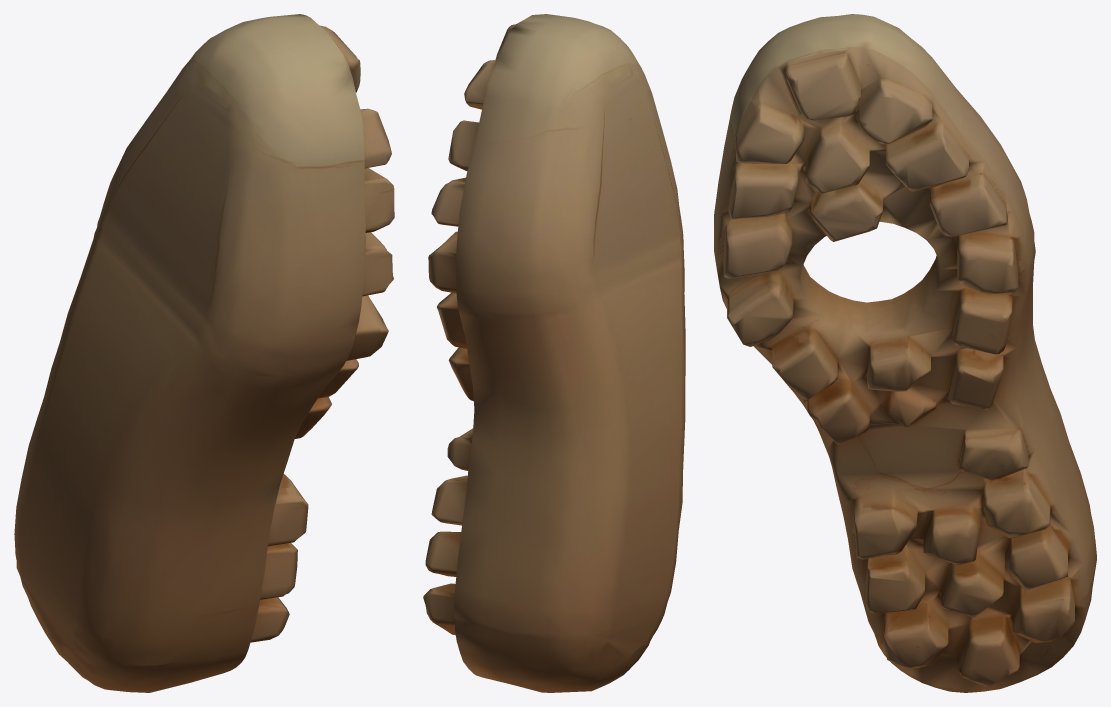
Rendered from roundprint.glb.
3 renders of one model, left to right at view 1: azimuth 30°, elevation 25°; view 2: azimuth 150°, elevation 25°; view 3: azimuth 270°, elevation 25°, orthographic. The views are drawn at different scales.
Visible parts, largest first — view 1: tripo_node_540a55f1-9e16-470f-b4a7-d7452b7e2327; view 2: tripo_node_540a55f1-9e16-470f-b4a7-d7452b7e2327; view 3: tripo_node_540a55f1-9e16-470f-b4a7-d7452b7e2327.
Boxes of the visible parts, left/top/right/bottom form: tripo_node_540a55f1-9e16-470f-b4a7-d7452b7e2327: left=14, top=14, right=394, bottom=692; tripo_node_540a55f1-9e16-470f-b4a7-d7452b7e2327: left=423, top=14, right=685, bottom=692; tripo_node_540a55f1-9e16-470f-b4a7-d7452b7e2327: left=714, top=14, right=1096, bottom=692.
Size of the model in its own units: 0.3574 by 0.998 by 0.5137.
1 material, 1 textured.
